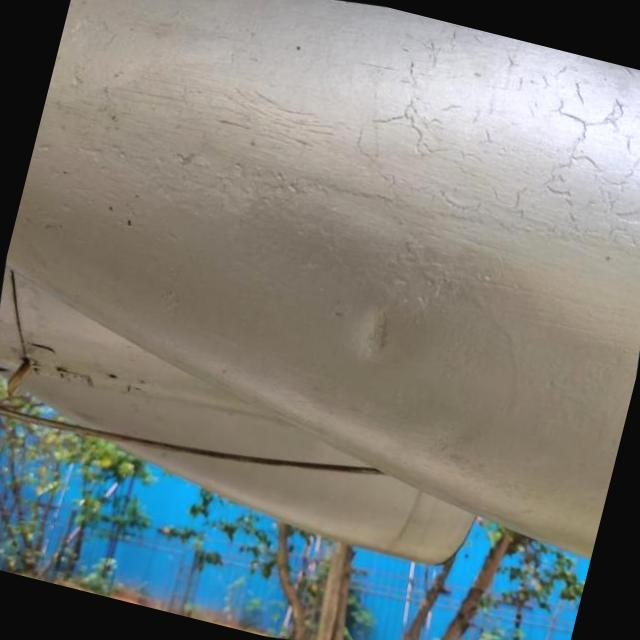dent: (329, 280, 426, 386)
